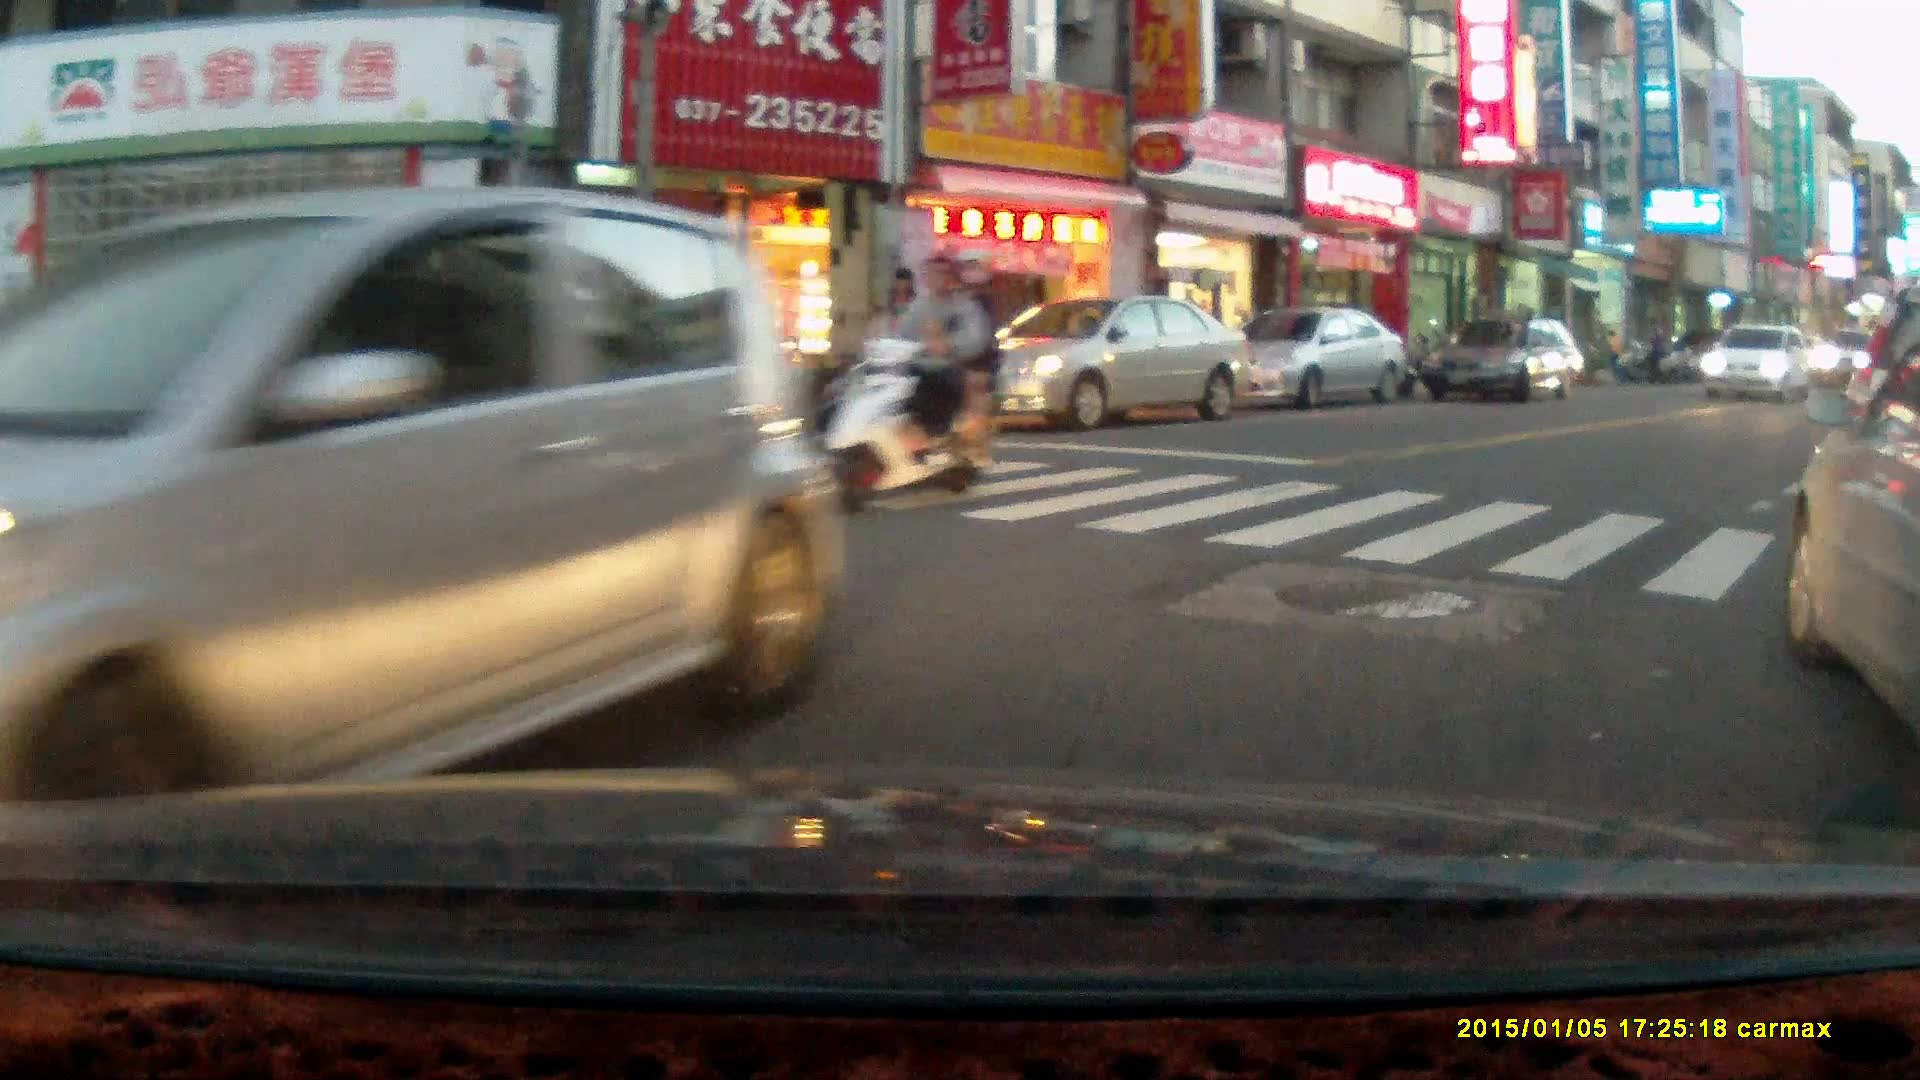rider: (818, 244, 998, 515)
vehicle: (1, 179, 851, 865), (1777, 342, 1920, 734), (954, 294, 1258, 427), (1215, 308, 1411, 406), (1422, 315, 1587, 410), (1699, 323, 1820, 400)
